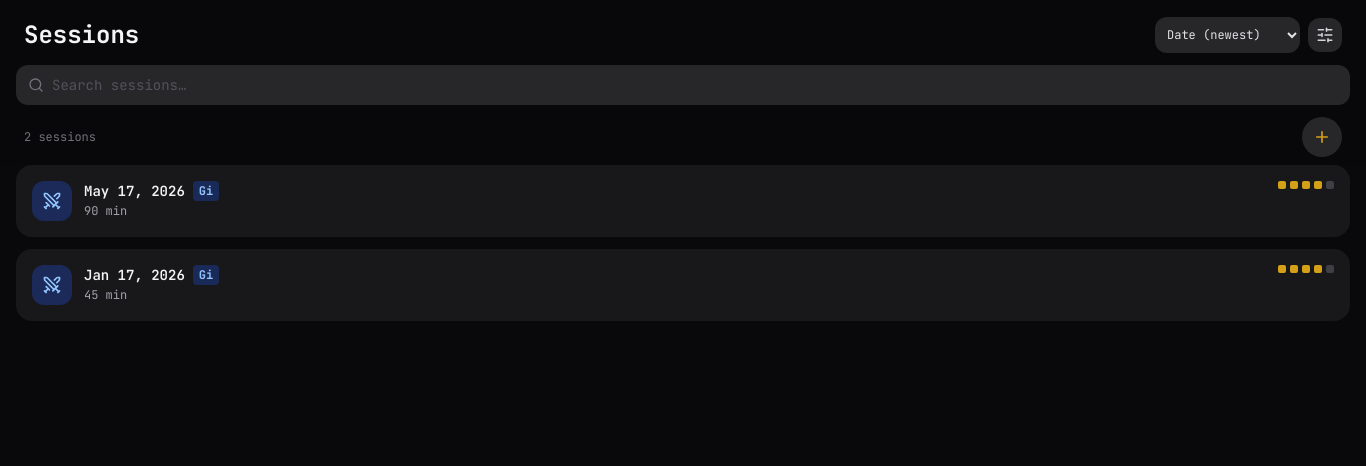
Test: SessionsPage › filters sessions when a day range is selected
This screenshot has width=1366, height=466.
Step 1. Click the button named "Filter" → (1325, 35), box top-left (1308, 18), bottom-right (1342, 52)
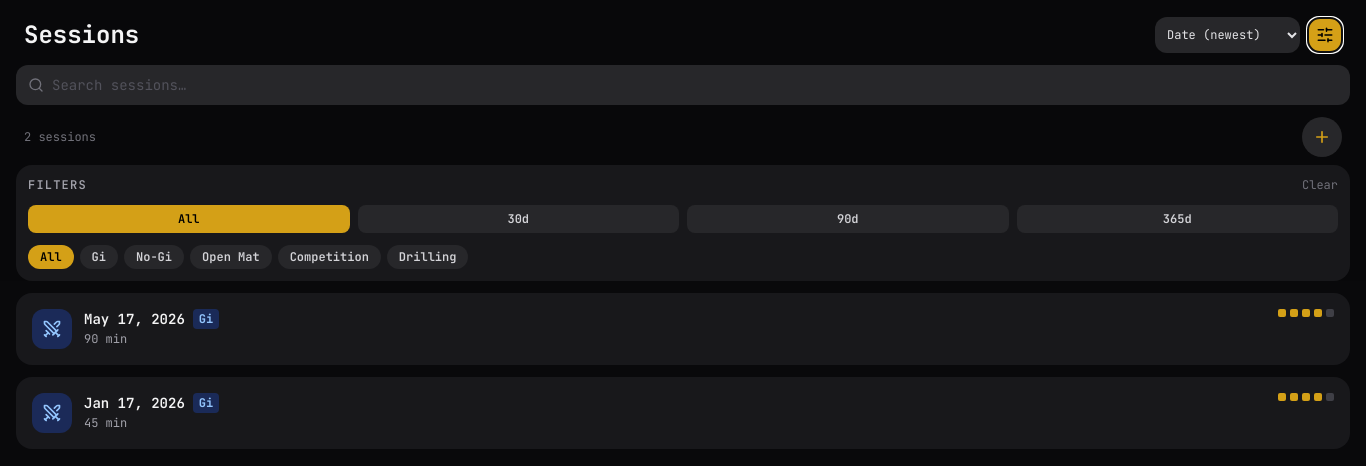
Step 2. Click the button "30d" → (518, 219), box top-left (358, 205), bottom-right (679, 233)
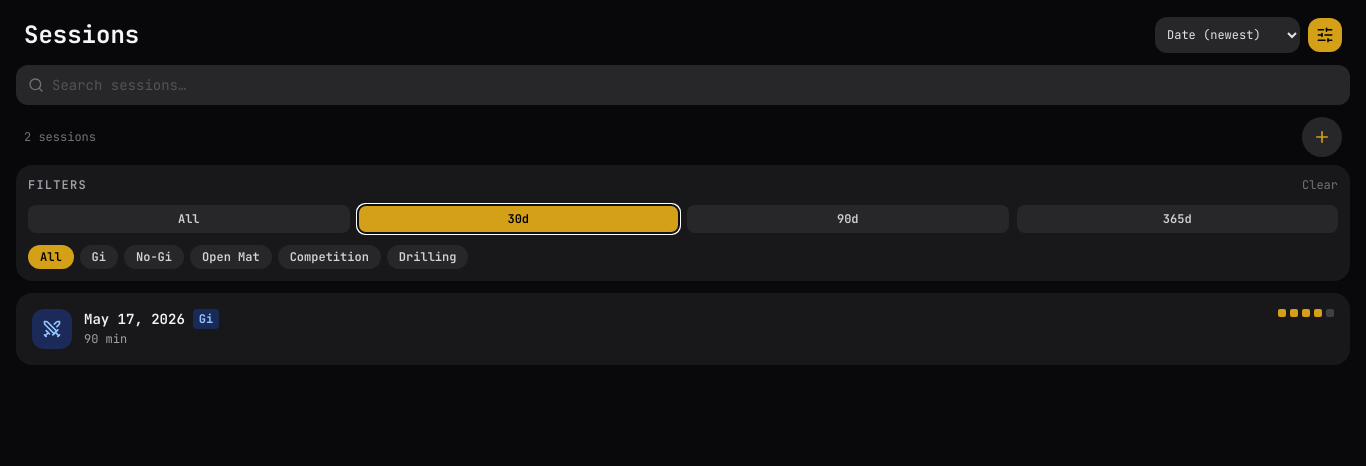
expect the text "90 min" is shown: met, box top-left (84, 331), bottom-right (127, 347)
expect the button "45 min" is gone: met
